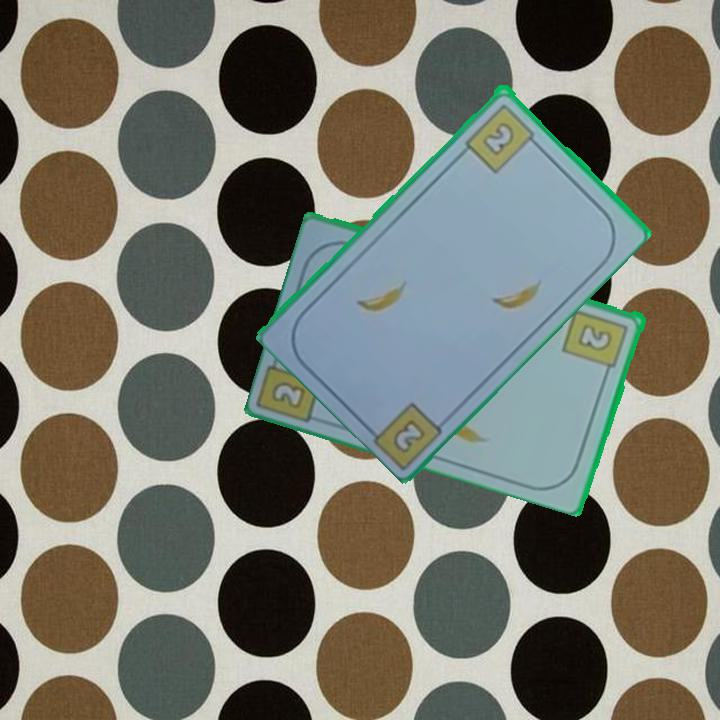2b: (461, 99, 542, 176), (560, 305, 631, 379), (389, 414, 429, 456), (268, 377, 309, 412)
